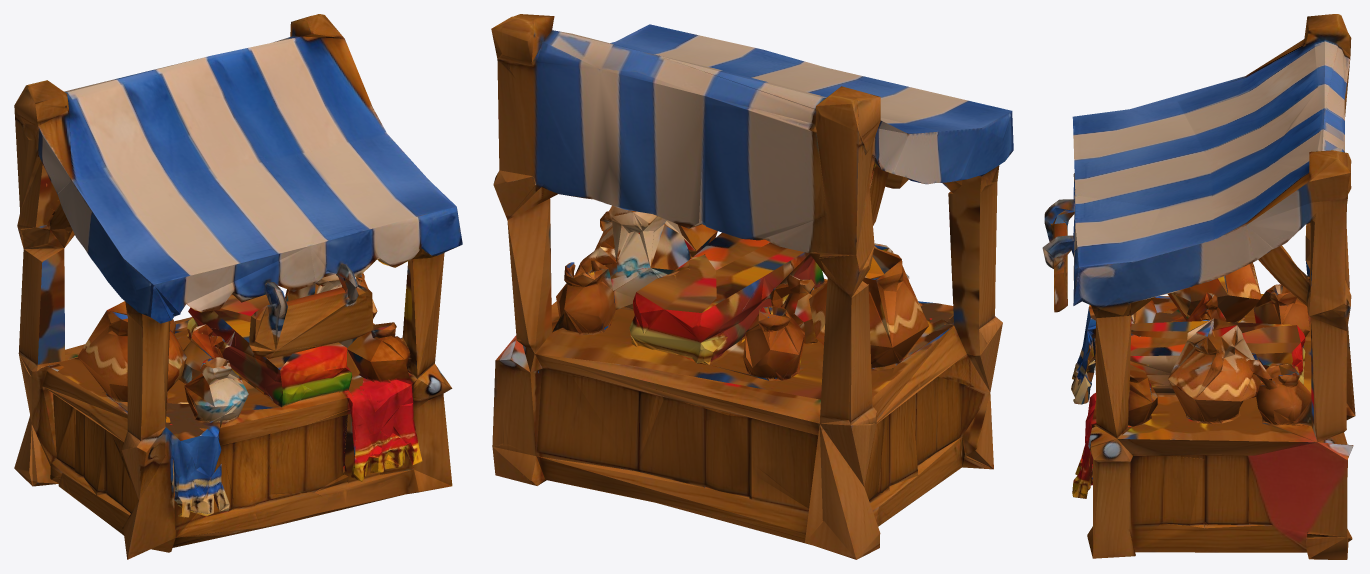
The model's file is ck_stall_b.glb.
3 views of the same model, side by side, from view 1: azimuth 30°, elevation 25°; view 2: azimuth 150°, elevation 25°; view 3: azimuth 270°, elevation 25° (orthographic). The views are drawn at different scales.
Parts seen in each view (by area): view 1: ck_stall_b; view 2: ck_stall_b; view 3: ck_stall_b.
Part boxes in pixels (left/top/right/bottom): ck_stall_b: left=14, top=14, right=462, bottom=559; ck_stall_b: left=491, top=14, right=1013, bottom=559; ck_stall_b: left=1042, top=14, right=1355, bottom=559.
Size of the model in its own units: 1.67 by 1.98 by 1.41.
Materials: 1 (1 with a texture image).
